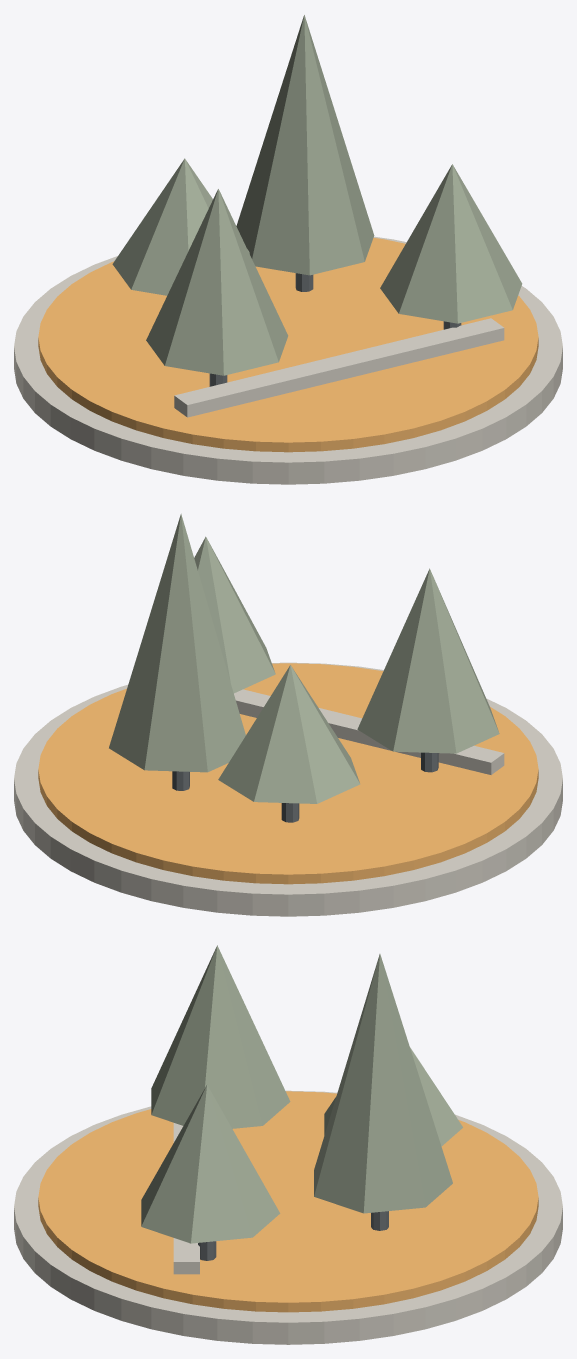
File: park.glb
The picture shows the model from 3 angles, top to bottom: view 1: azimuth 30°, elevation 25°; view 2: azimuth 150°, elevation 25°; view 3: azimuth 270°, elevation 25°; orthographic projection.
Visible parts, largest first — view 1: Cube; view 2: Cube; view 3: Cube.
Part boxes in pixels (bbox=[...]): Cube: bbox=[14, 15, 562, 484]; Cube: bbox=[14, 513, 562, 916]; Cube: bbox=[14, 945, 562, 1344].
Bounding box in the file's own units: 2.7 × 1.66 × 2.7.
